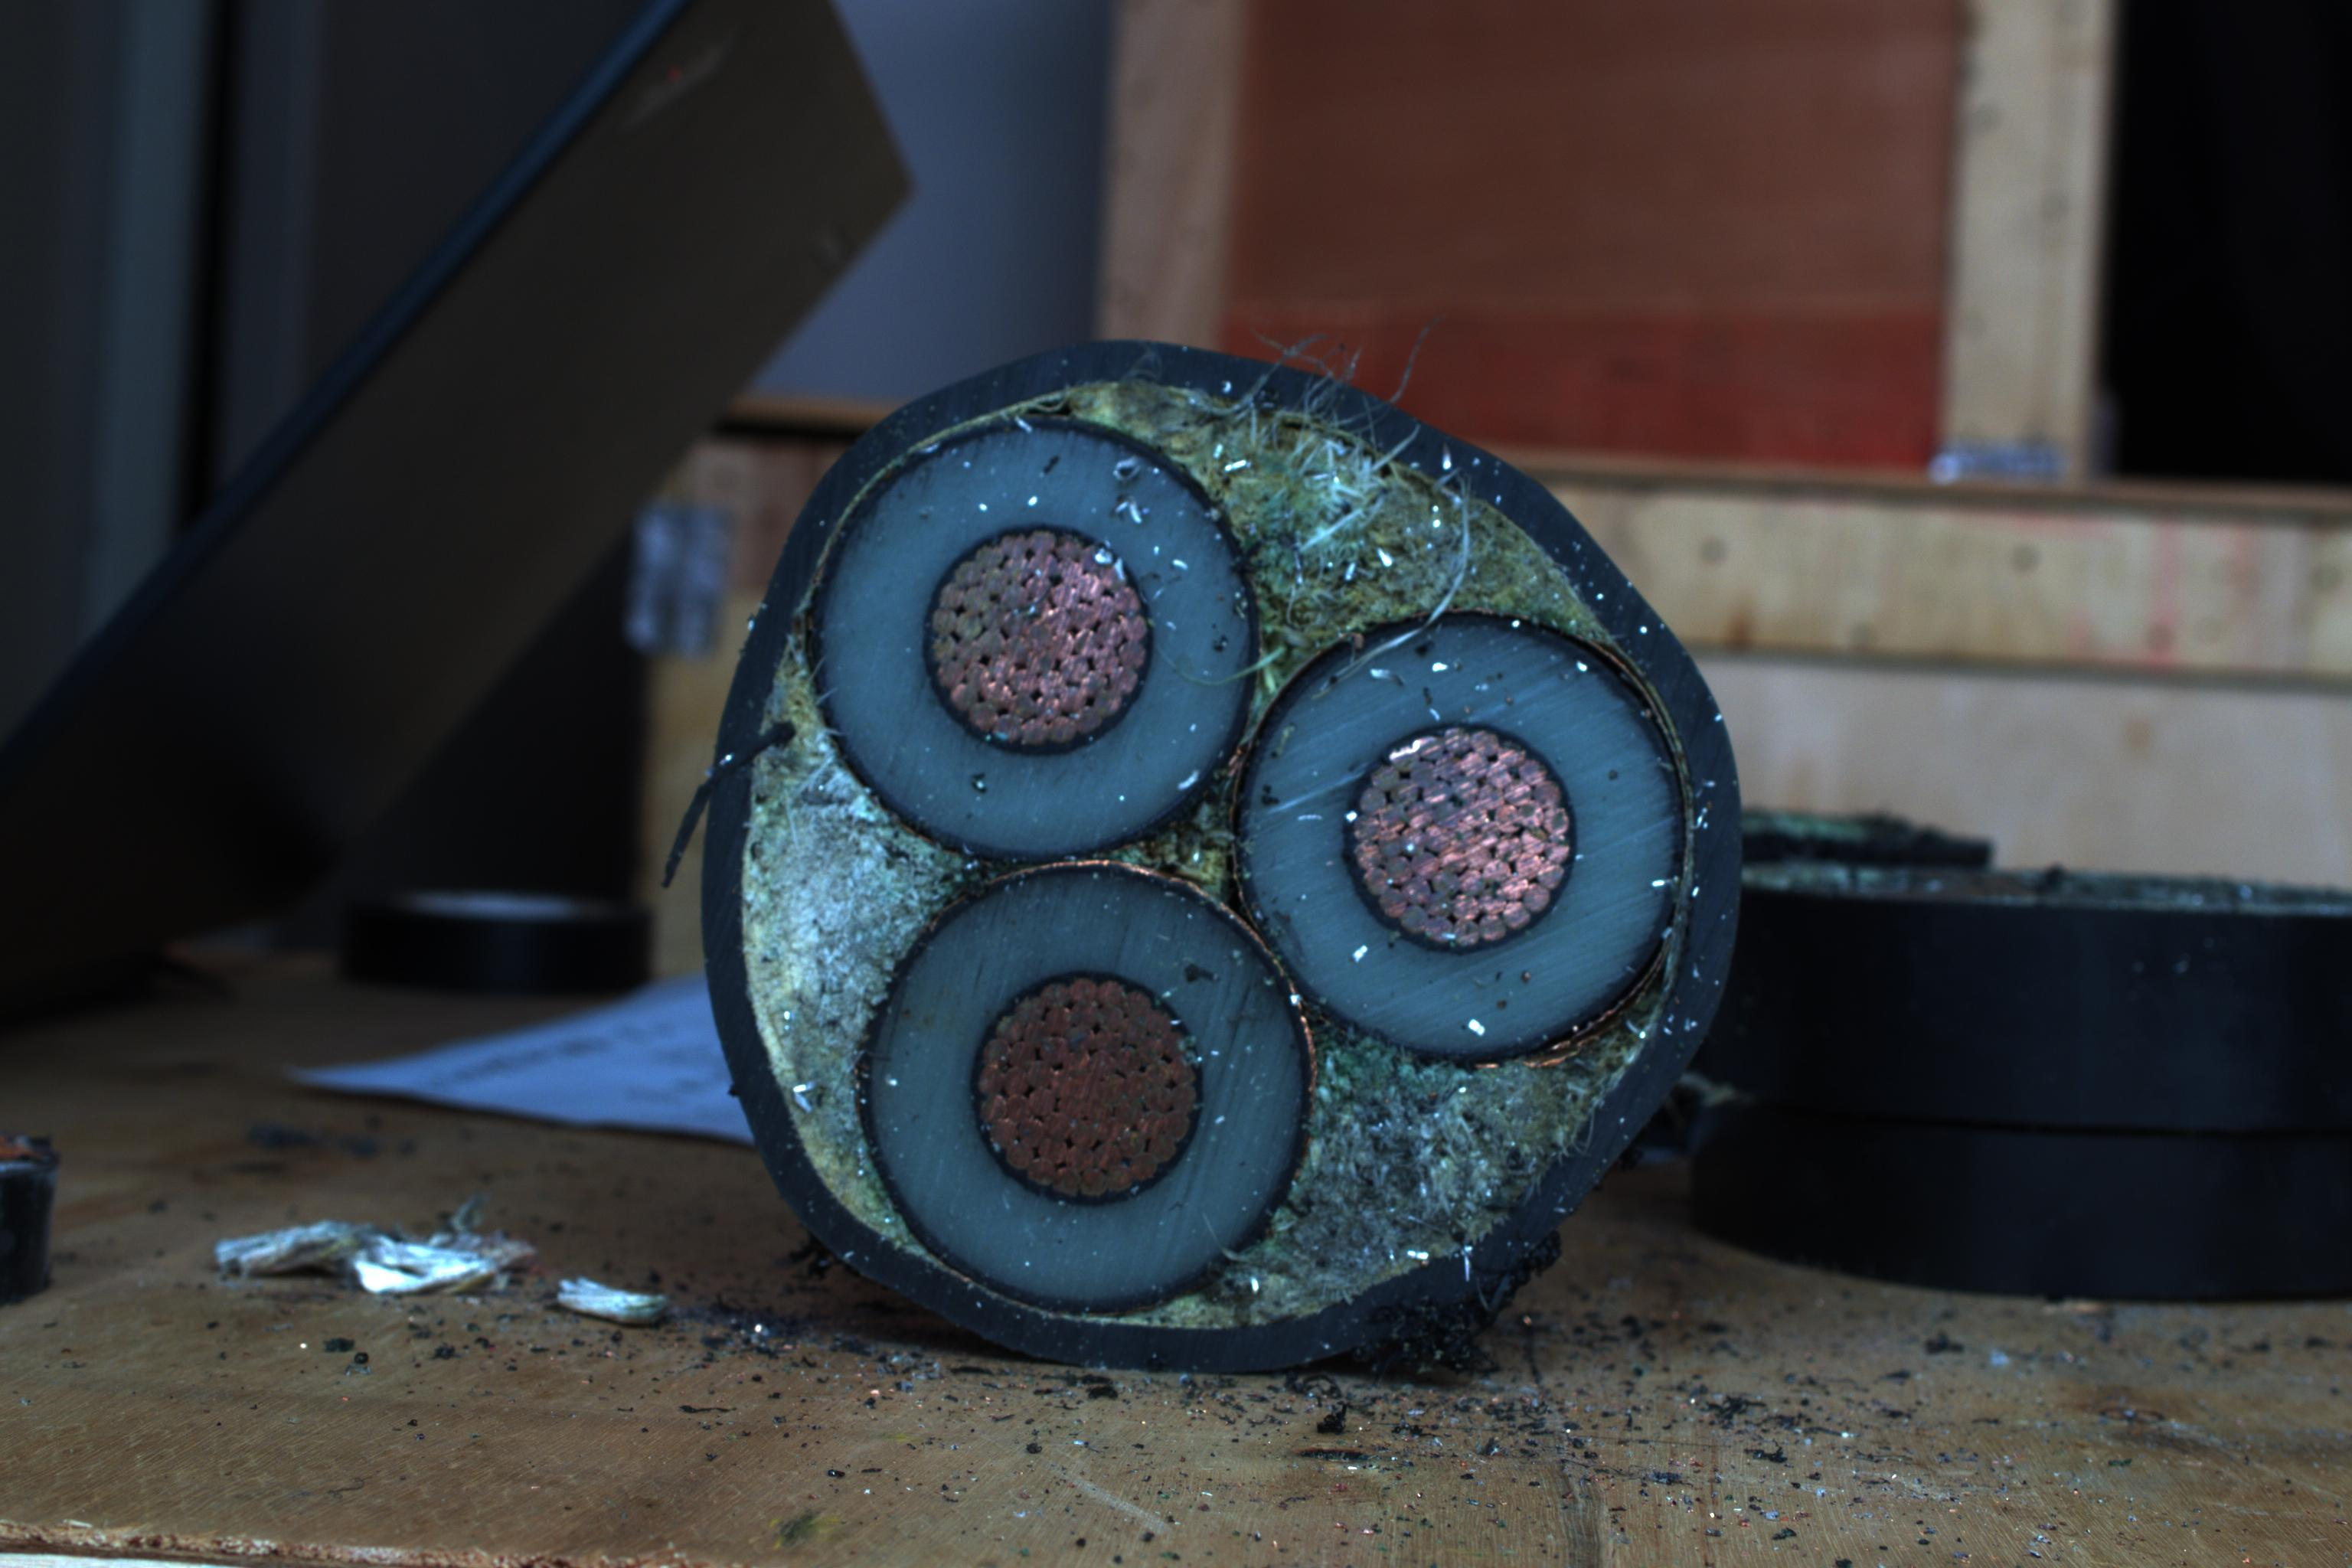ZA_YJV_26_35kV_3x400: (674, 329, 1794, 1393)
